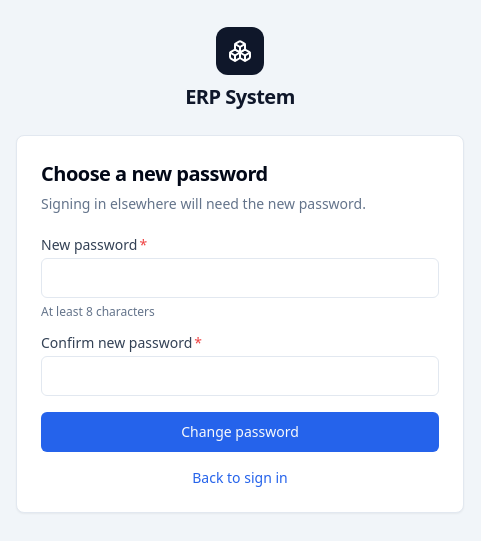
Test case: <ResetPassword /> › refuses to submit when the two passwords differ
In the password field labelled "New password*": (240, 278) [41, 258, 439, 298], type "a-good-password"
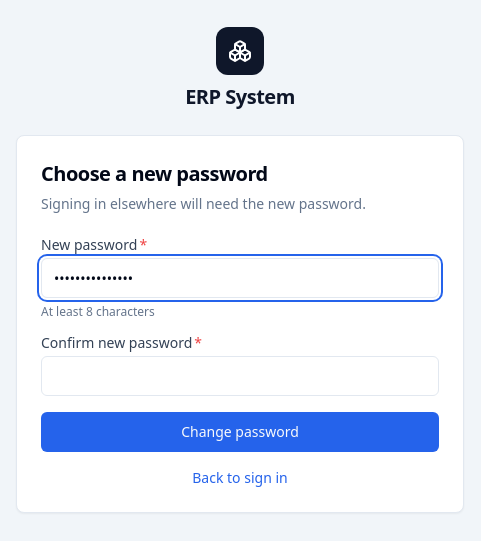
In the password field labelled "Confirm new password*": (240, 376) [41, 356, 439, 396], type "a-different-one"
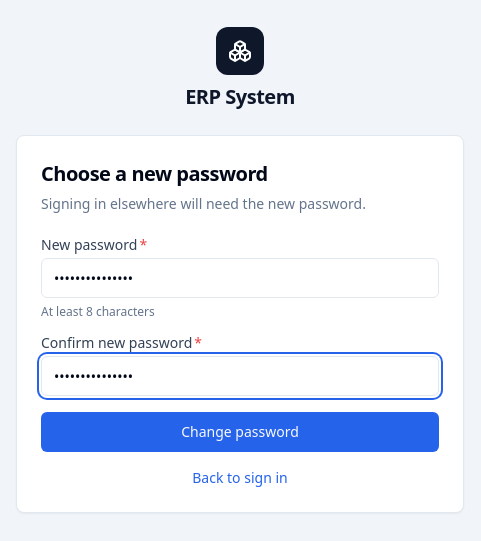
Click the button "Change password": (240, 432) [41, 412, 439, 452]
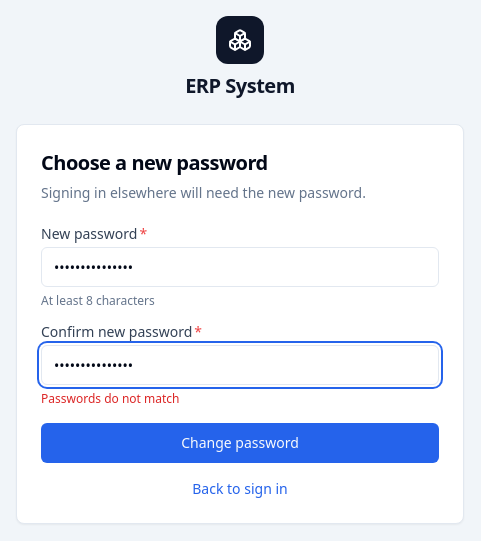
Now the text "Passwords do not match" is shown, box [41, 390, 180, 407]
